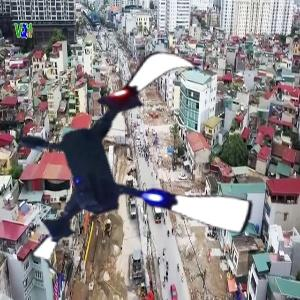drone: (1, 32, 262, 293)
